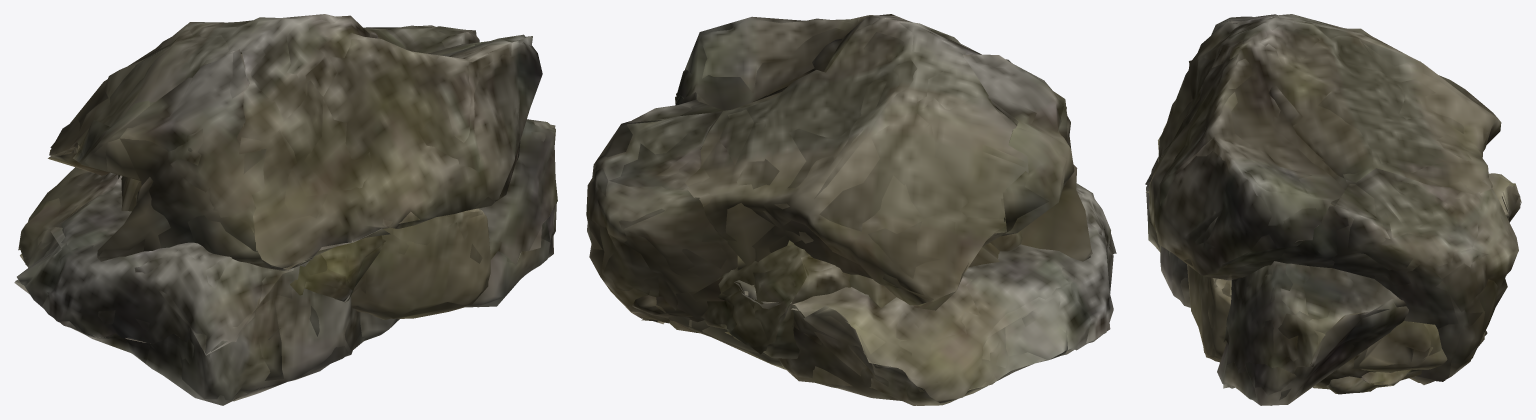
File: rock_moss_set_02.glb
The picture shows the model from 3 angles, left to right: view 1: azimuth 30°, elevation 25°; view 2: azimuth 150°, elevation 25°; view 3: azimuth 270°, elevation 25°; orthographic projection. The views are drawn at different scales.
Visible parts, largest first — view 1: rock_moss_set_02_v4_near, rock_moss_set_02_v3_near, rock_moss_set_02_v4_far, rock_moss_set_02_v3_far, rock_moss_set_02_v0_near, rock_moss_set_02_v0_far, rock_moss_set_02_v5_near, rock_moss_set_02_v5_far; view 2: rock_moss_set_02_v4_near, rock_moss_set_02_v4_far, rock_moss_set_02_v3_near, rock_moss_set_02_v3_far, rock_moss_set_02_v5_near, rock_moss_set_02_v5_far, rock_moss_set_02_v0_near, rock_moss_set_02_v0_far; view 3: rock_moss_set_02_v4_near, rock_moss_set_02_v4_far, rock_moss_set_02_v3_near, rock_moss_set_02_v3_far, rock_moss_set_02_v0_near, rock_moss_set_02_v0_far, rock_moss_set_02_v2_near, rock_moss_set_02_v5_near.
Boxes of the visible parts, bbox=[...] form: rock_moss_set_02_v4_near: bbox=[49, 14, 542, 270]; rock_moss_set_02_v3_near: bbox=[15, 119, 557, 401]; rock_moss_set_02_v4_far: bbox=[48, 15, 532, 270]; rock_moss_set_02_v3_far: bbox=[14, 120, 555, 405]; rock_moss_set_02_v0_near: bbox=[121, 176, 490, 319]; rock_moss_set_02_v0_far: bbox=[118, 175, 488, 318]; rock_moss_set_02_v5_near: bbox=[256, 235, 385, 339]; rock_moss_set_02_v5_far: bbox=[290, 243, 383, 300]; rock_moss_set_02_v4_near: bbox=[586, 15, 1091, 333]; rock_moss_set_02_v4_far: bbox=[587, 14, 1092, 323]; rock_moss_set_02_v3_near: bbox=[734, 184, 1116, 405]; rock_moss_set_02_v3_far: bbox=[700, 146, 1112, 405]; rock_moss_set_02_v5_near: bbox=[632, 231, 1022, 358]; rock_moss_set_02_v5_far: bbox=[646, 245, 850, 354]; rock_moss_set_02_v0_near: bbox=[688, 246, 999, 366]; rock_moss_set_02_v0_far: bbox=[668, 206, 999, 370]; rock_moss_set_02_v4_near: bbox=[1148, 15, 1518, 384]; rock_moss_set_02_v4_far: bbox=[1146, 14, 1518, 381]; rock_moss_set_02_v3_near: bbox=[1146, 157, 1520, 405]; rock_moss_set_02_v3_far: bbox=[1145, 174, 1521, 405]; rock_moss_set_02_v0_near: bbox=[1187, 204, 1447, 372]; rock_moss_set_02_v0_far: bbox=[1198, 277, 1441, 371]; rock_moss_set_02_v2_near: bbox=[1326, 369, 1411, 393]; rock_moss_set_02_v5_near: bbox=[1313, 277, 1505, 389].
Bounding box in the file's own units: 2.21 × 1.32 × 1.56.
Materials: 1 (1 with a texture image).
